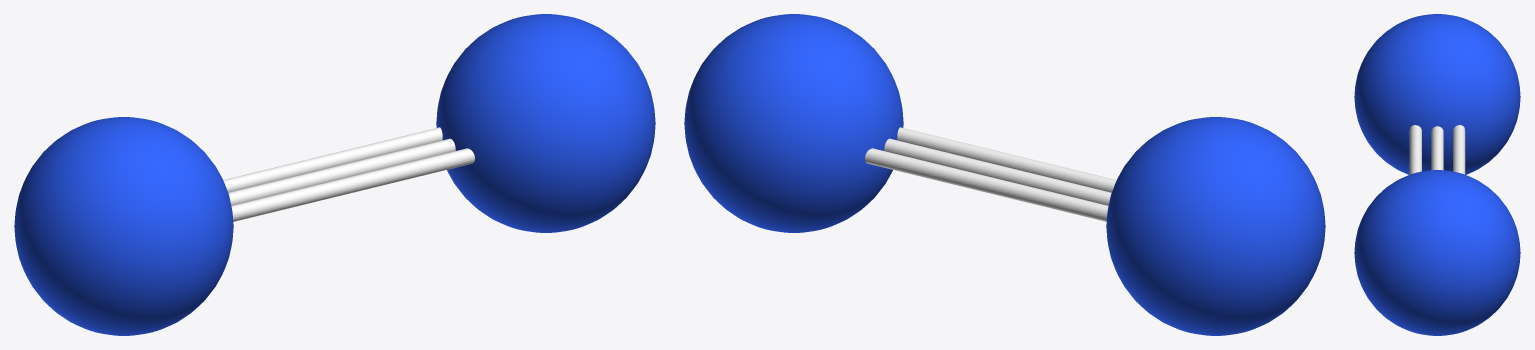
Rendered from nitrogen.fbx.
3 views of the same model, side by side, from view 1: azimuth 30°, elevation 25°; view 2: azimuth 150°, elevation 25°; view 3: azimuth 270°, elevation 25° (orthographic). The views are drawn at different scales.
Visible parts, largest first — view 1: nitrogen; view 2: nitrogen; view 3: nitrogen.
Boxes of the visible parts, x1,y1,x2,y2 form: nitrogen: (14, 14, 655, 335); nitrogen: (684, 14, 1325, 335); nitrogen: (1354, 14, 1520, 335).
Size of the model in its own units: 116 by 36 by 36.
